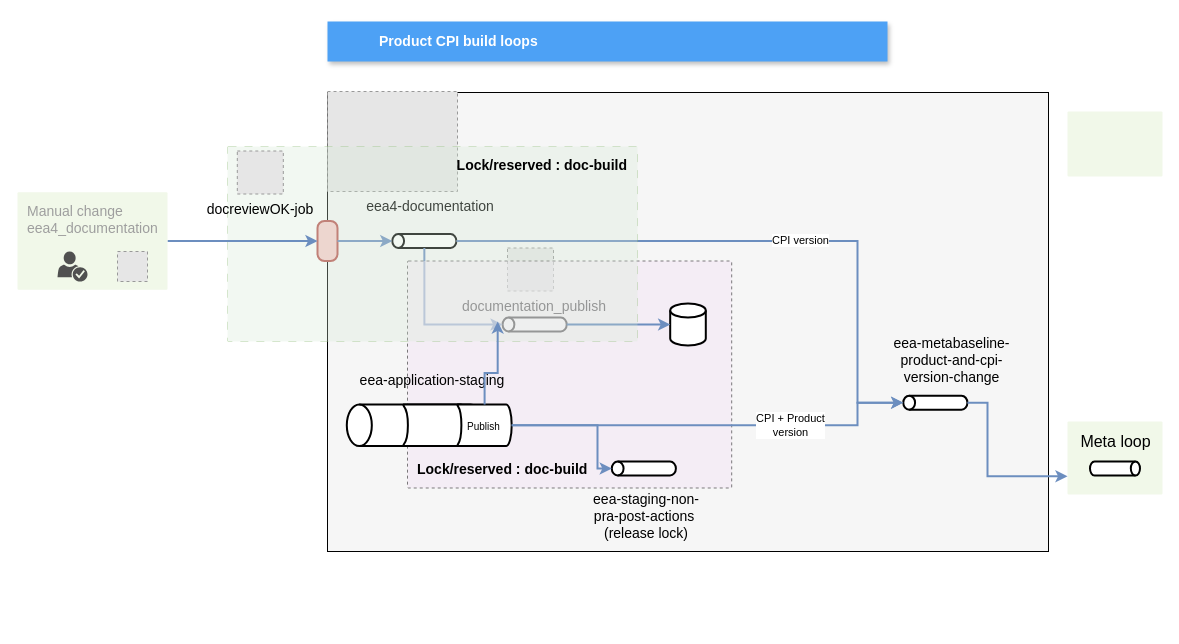
This 1179x644 diagram has some shape labels left out. Grey dashed boxes stand in for pictures. The shapes that lost their labels are listed below. From the top down, each one's centre as x and y in pixels, then its label:
point 1114,143: Application Dashboard
point 687,324: CPI
point 435,425: CPI build
